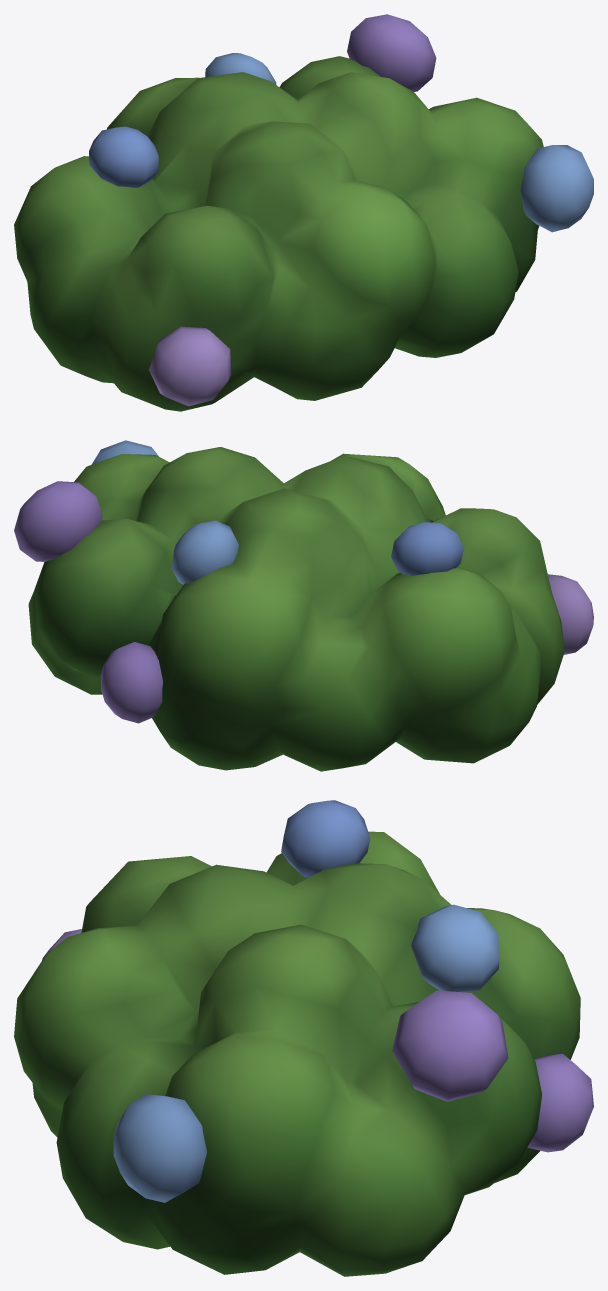
File: bush-b-summer.glb
The picture shows the model from 3 angles, top to bottom: view 1: azimuth 30°, elevation 25°; view 2: azimuth 150°, elevation 25°; view 3: azimuth 270°, elevation 25°; orthographic projection. The views are drawn at different scales.
Visible parts, largest first — view 1: bush-b-summer; view 2: bush-b-summer; view 3: bush-b-summer.
Part boxes in pixels (x1=…): bush-b-summer: x1=14, y1=14, x2=593, y2=411; bush-b-summer: x1=14, y1=440, x2=593, y2=771; bush-b-summer: x1=14, y1=800, x2=593, y2=1276.
Bounding box in the file's own units: 1.37 × 0.6337 × 1.12.
